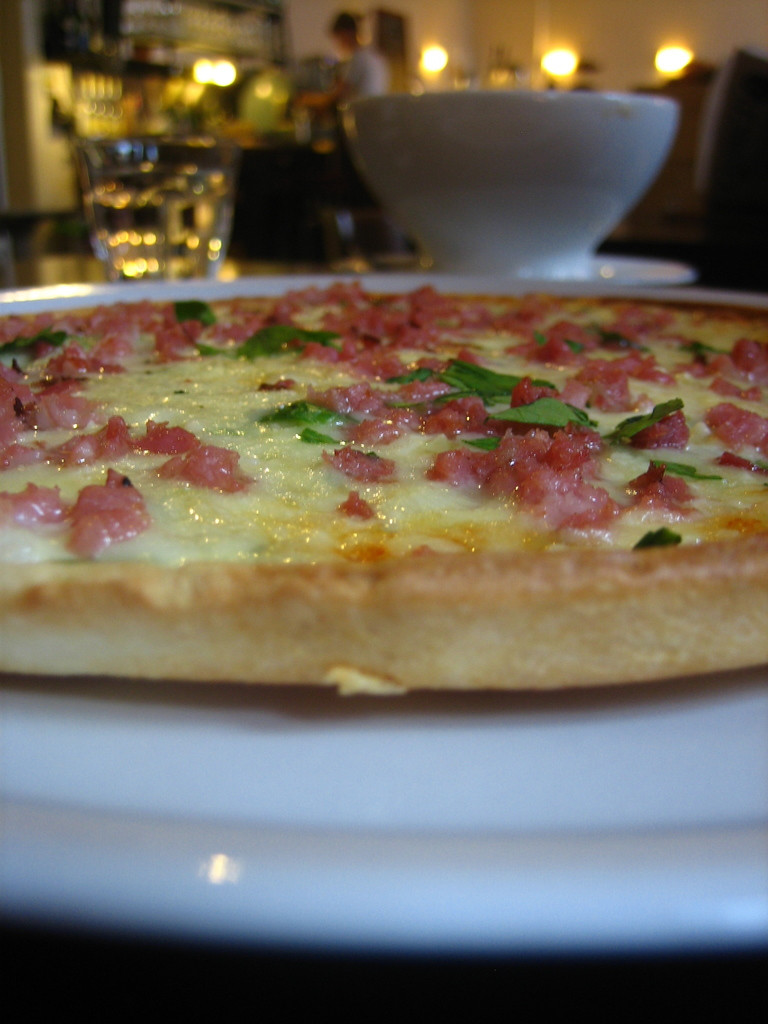Pizza: (0, 264, 764, 719)
